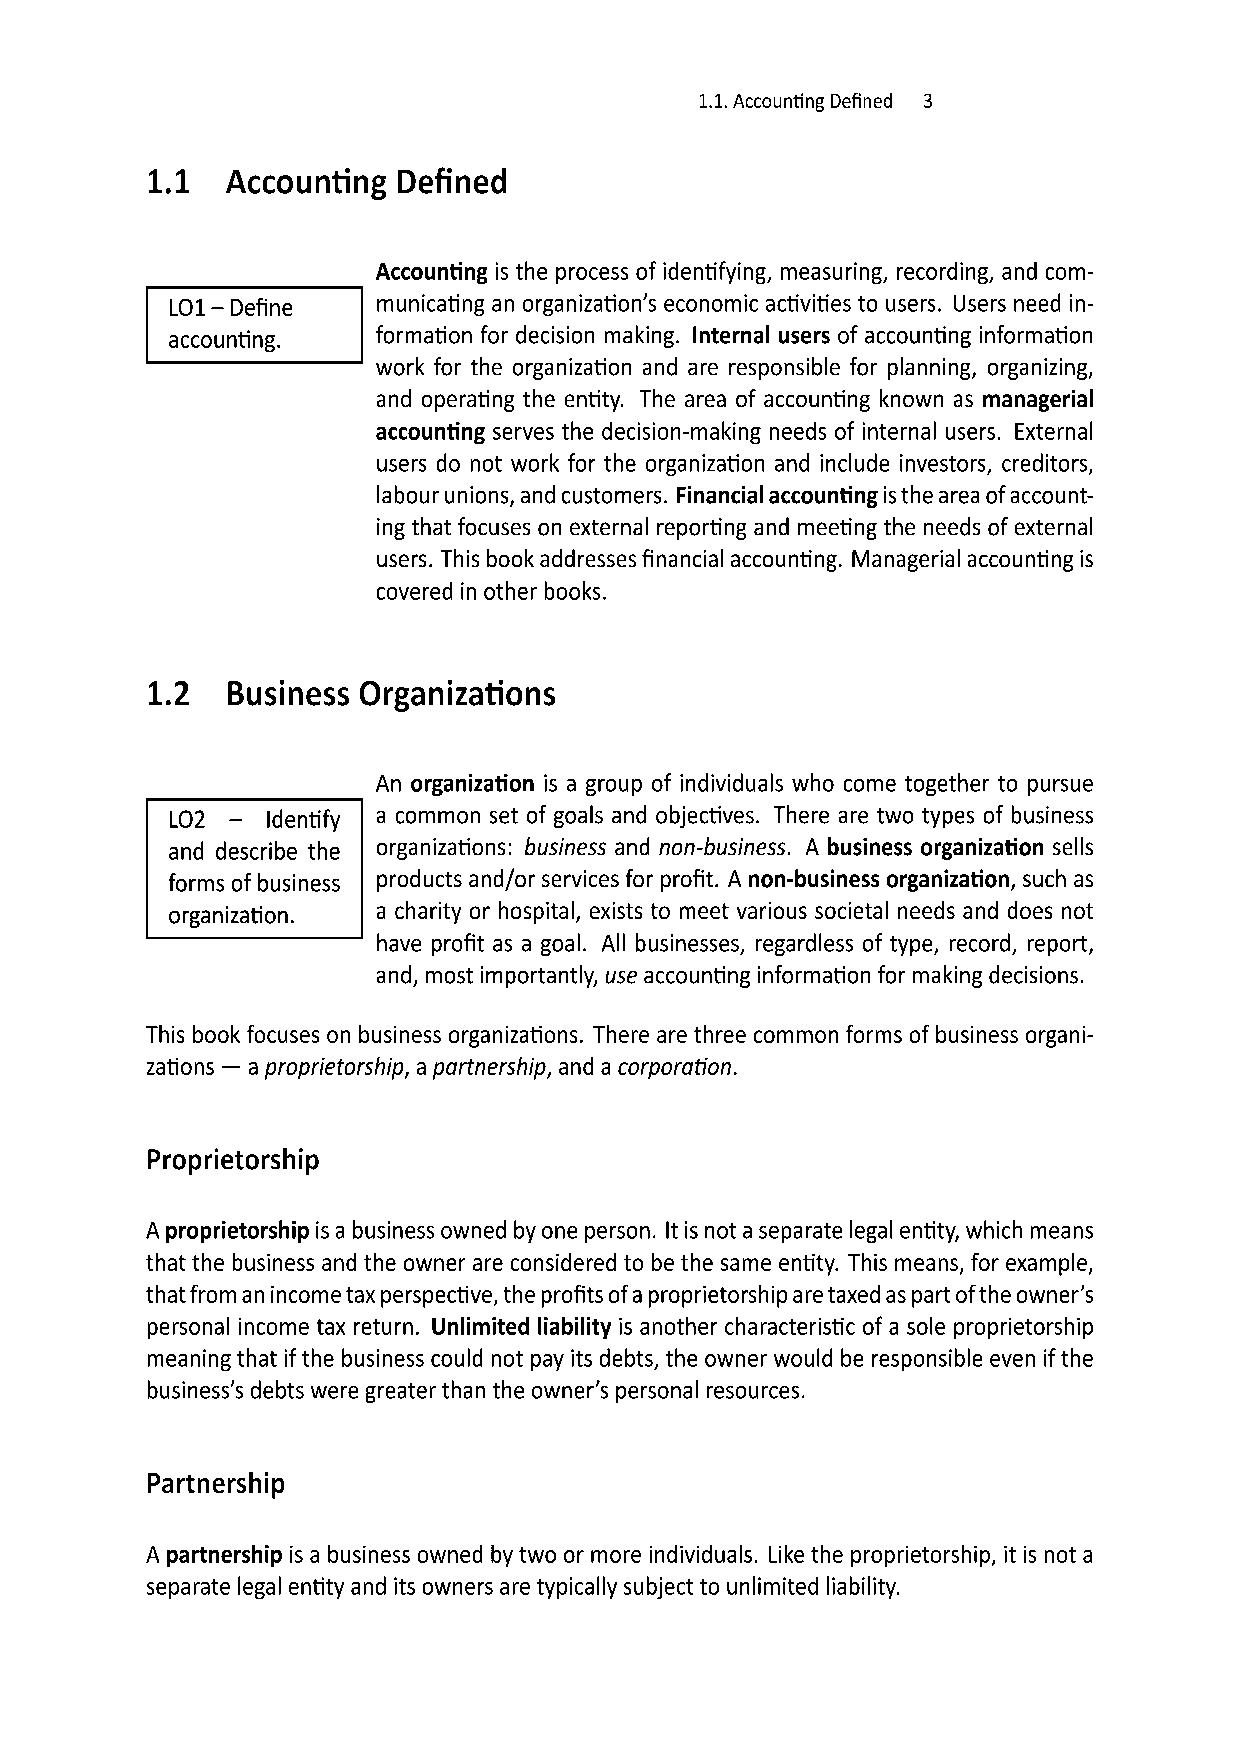chapter: (146, 676, 560, 717), (146, 162, 510, 203), (146, 1145, 319, 1178), (694, 89, 909, 113), (144, 1469, 286, 1502)
content: (372, 258, 1096, 605), (144, 1217, 1096, 1404), (372, 768, 1100, 996), (142, 1019, 1098, 1090), (144, 1542, 1095, 1605), (162, 807, 344, 929), (162, 295, 298, 356)
content_pagenumber: (921, 89, 935, 110)
